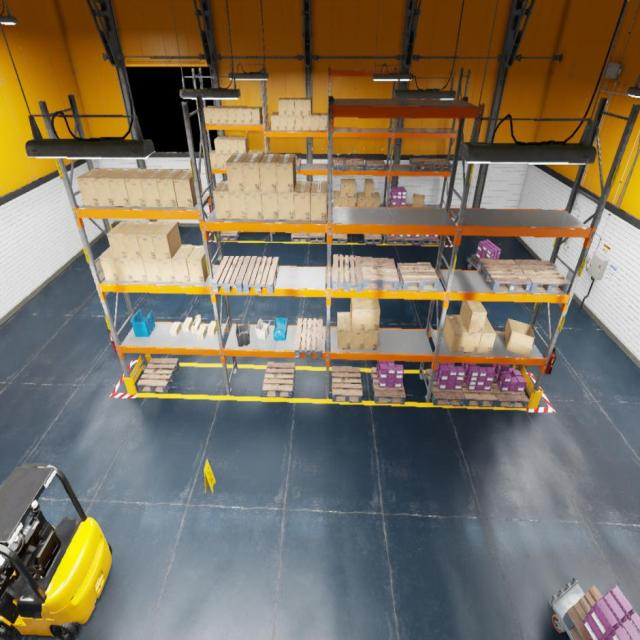box: (504, 318, 535, 357), (76, 168, 108, 205), (173, 169, 203, 208), (108, 168, 138, 206), (93, 168, 123, 206), (125, 168, 153, 207), (152, 222, 181, 259), (140, 169, 168, 207), (107, 221, 135, 259), (157, 169, 183, 208), (186, 245, 212, 283), (122, 221, 148, 259), (137, 222, 163, 259), (443, 315, 468, 352), (172, 245, 196, 283), (459, 301, 486, 333), (242, 153, 264, 192), (226, 154, 249, 191), (259, 153, 280, 192), (460, 315, 482, 352), (276, 153, 296, 192), (213, 180, 232, 218), (478, 316, 497, 352), (310, 181, 327, 221), (294, 181, 311, 220), (100, 247, 119, 281), (336, 312, 352, 348), (350, 298, 366, 330), (245, 192, 263, 219), (229, 192, 247, 219), (365, 298, 380, 330), (142, 259, 162, 282), (278, 193, 294, 220), (157, 260, 176, 282), (128, 260, 147, 282), (114, 259, 133, 281), (262, 193, 278, 219), (364, 330, 379, 349), (351, 330, 365, 349), (190, 314, 202, 333), (226, 106, 238, 124), (210, 106, 222, 124), (214, 137, 226, 154), (222, 136, 233, 154), (251, 106, 262, 124), (235, 106, 246, 124), (219, 106, 230, 124), (203, 106, 214, 124), (238, 136, 249, 153), (412, 193, 425, 207), (364, 179, 374, 197), (230, 136, 240, 154), (243, 106, 253, 124), (278, 97, 288, 115), (170, 322, 182, 336), (182, 318, 194, 332), (294, 98, 303, 115), (286, 98, 295, 115), (197, 324, 207, 339), (348, 179, 356, 197), (320, 113, 328, 131), (311, 113, 319, 131), (271, 113, 279, 131), (209, 151, 217, 168), (303, 98, 311, 115), (356, 192, 365, 206), (341, 178, 348, 196), (208, 321, 216, 336), (216, 155, 225, 168), (372, 192, 380, 206), (295, 116, 303, 130), (303, 116, 311, 130), (286, 116, 294, 130), (279, 116, 287, 130), (333, 191, 340, 206), (364, 193, 372, 206), (223, 155, 231, 168), (340, 197, 348, 206), (348, 197, 355, 206), (255, 151, 264, 153)
forklift: (0, 464, 112, 639)
pallets: (563, 586, 603, 640), (514, 259, 570, 293), (477, 259, 532, 292), (242, 256, 280, 294), (212, 256, 251, 293), (425, 370, 465, 406), (138, 358, 180, 392), (361, 257, 399, 290), (371, 368, 406, 403), (397, 263, 439, 291), (492, 377, 529, 408), (332, 254, 362, 292), (263, 362, 295, 397), (331, 367, 363, 402), (295, 318, 323, 358), (462, 382, 497, 406), (428, 158, 452, 170), (410, 157, 432, 170), (346, 158, 365, 170), (365, 160, 386, 170), (420, 235, 440, 245), (403, 235, 422, 245), (332, 158, 346, 171), (364, 234, 382, 244), (386, 234, 404, 244), (291, 232, 308, 242), (220, 232, 240, 240), (308, 233, 325, 242), (389, 199, 408, 207), (332, 234, 347, 243), (471, 254, 478, 268), (295, 158, 301, 172)
